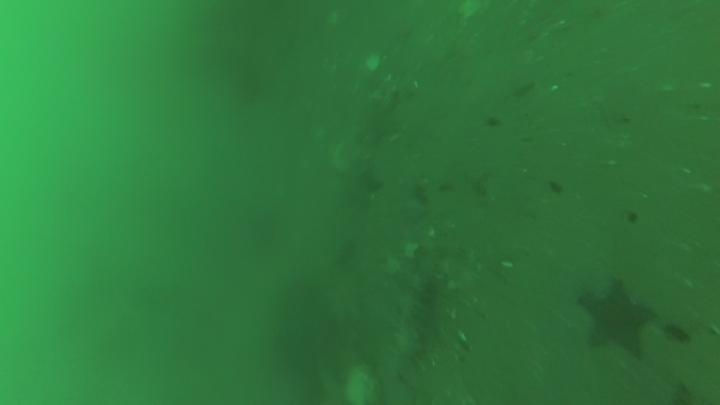holothurian: (399, 262, 438, 341)
starfish: (580, 278, 655, 358)
